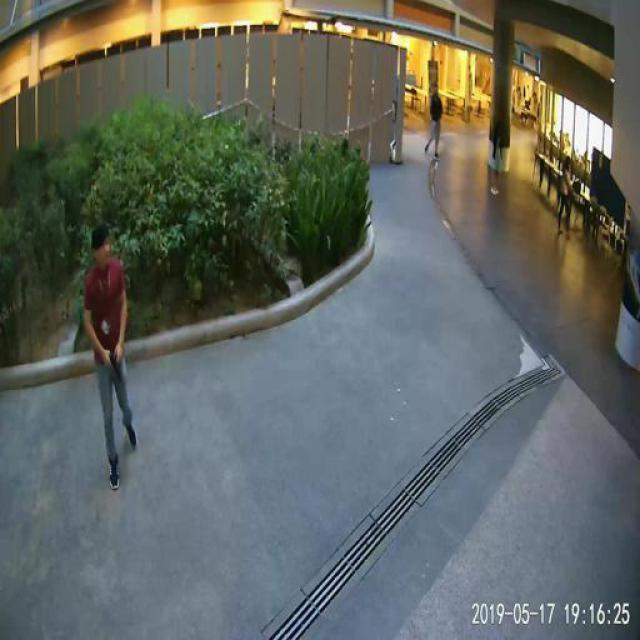weapon: (108, 354, 123, 381)
